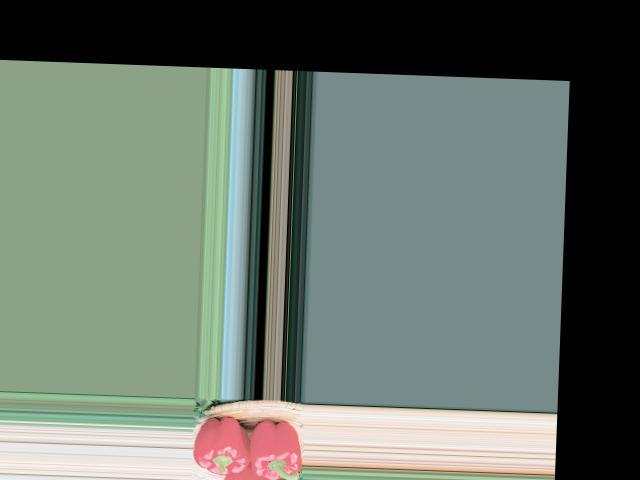bell_pepper: (241, 412, 302, 480)
